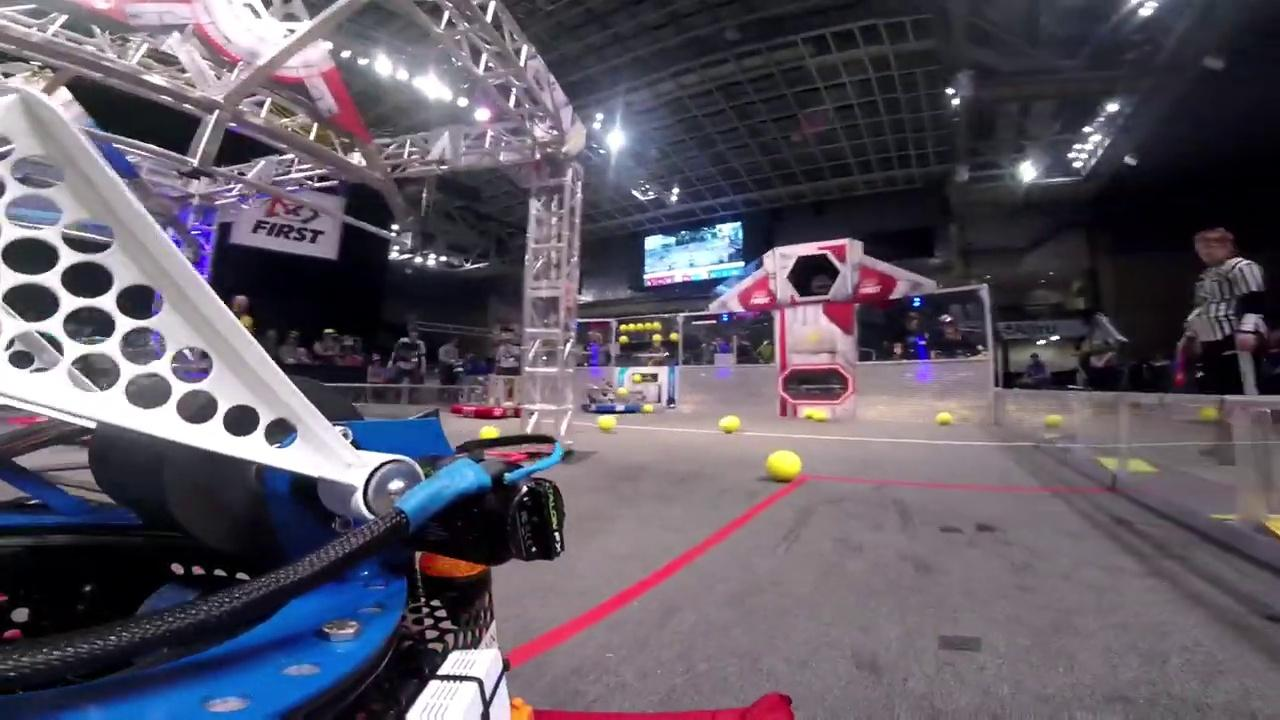robot: (447, 370, 522, 422), (580, 377, 645, 415)
